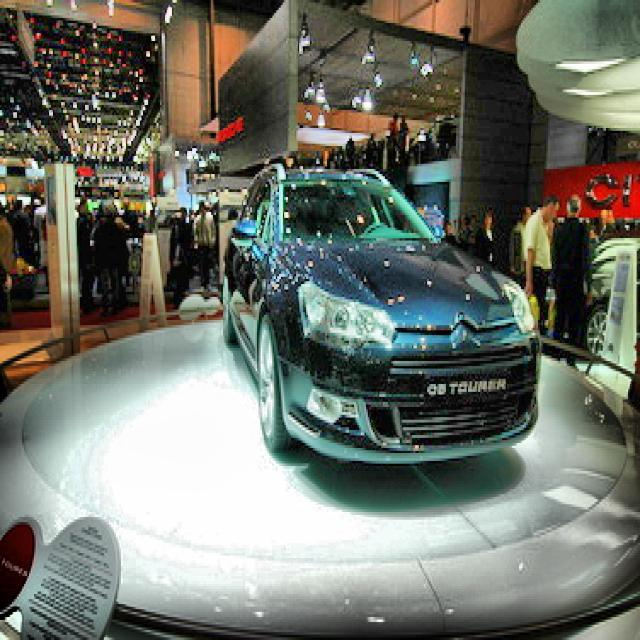carro: (218, 124, 574, 518)
